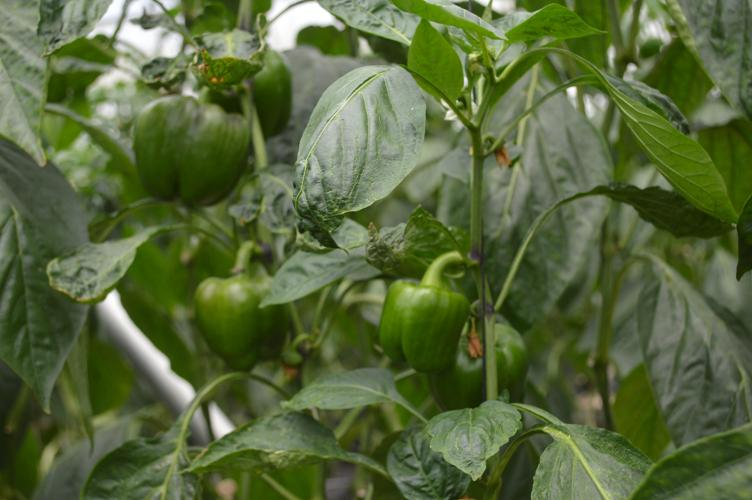BellPepper: (131, 98, 250, 197), (423, 322, 531, 403), (191, 277, 282, 366), (371, 280, 462, 365), (206, 51, 288, 133)
